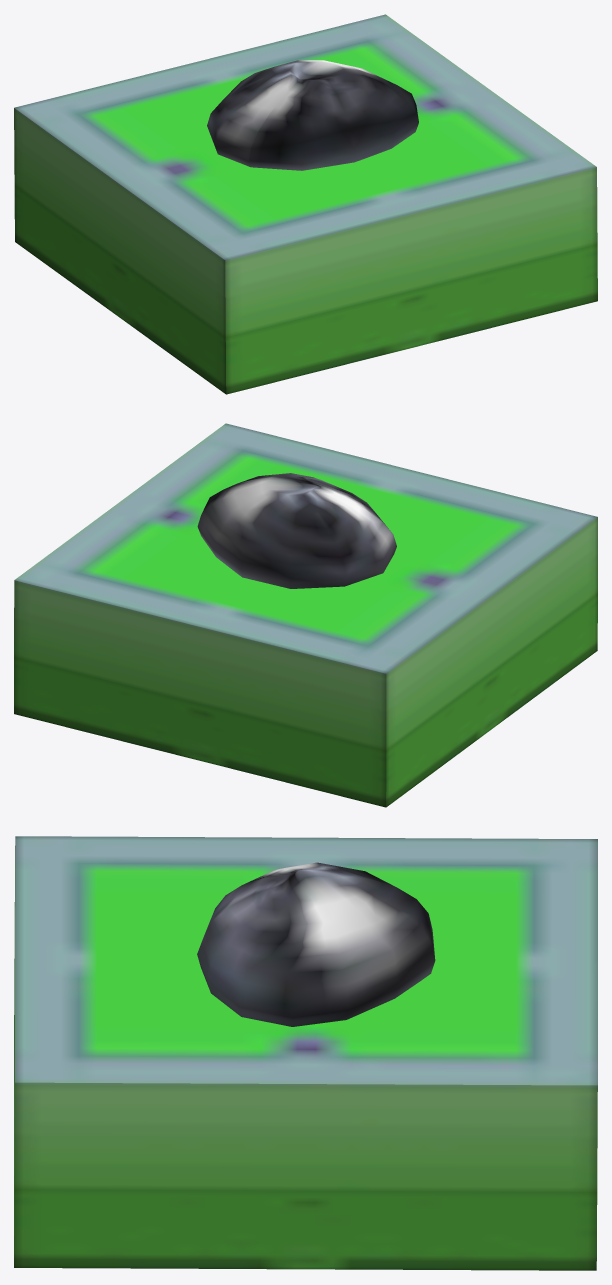
File: ps2mc2.ico.obj
The picture shows the model from 3 angles, top to bottom: view 1: azimuth 30°, elevation 25°; view 2: azimuth 150°, elevation 25°; view 3: azimuth 270°, elevation 25°; orthographic projection. The views are drawn at different scales.
Size of the model in its own units: 2.25 by 1.15 by 2.22.
1 material, 1 textured.
